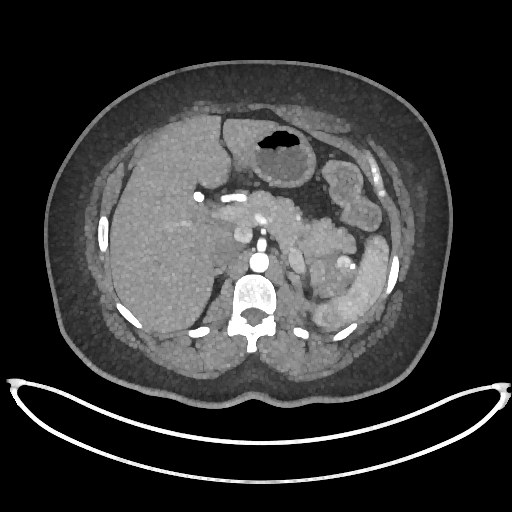Lesion: (336, 252, 353, 269)
